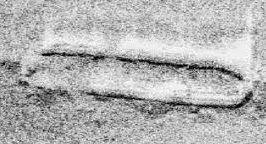ship: (7, 48, 254, 109)
